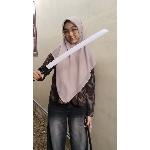Pedang: (34, 26, 112, 78)
